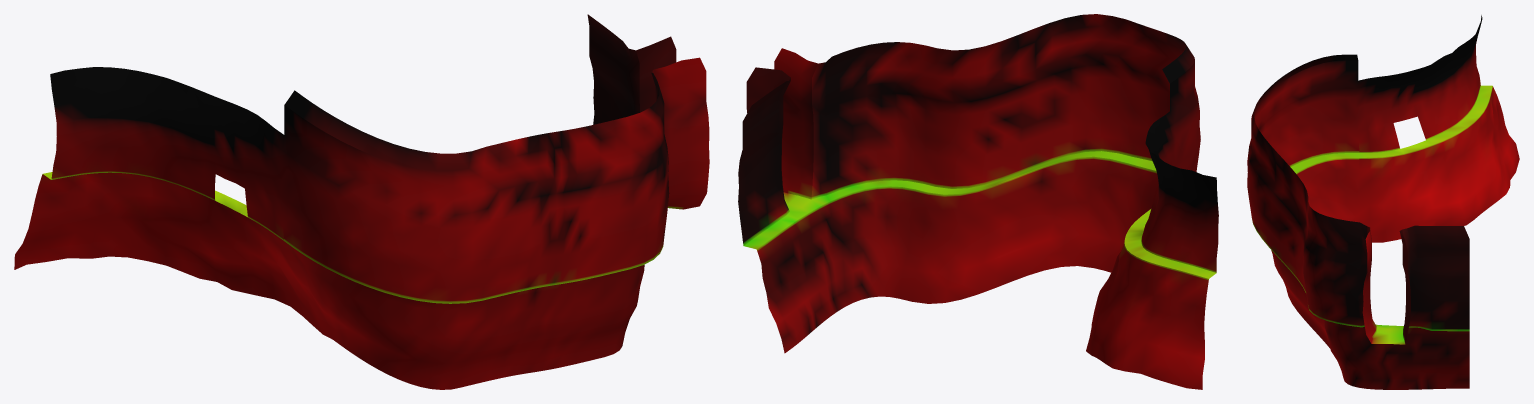
File: mountain_entrance_path.obj
3 views of the same model, side by side, from view 1: azimuth 30°, elevation 25°; view 2: azimuth 150°, elevation 25°; view 3: azimuth 270°, elevation 25° (orthographic). The views are drawn at different scales.
Parts seen in each view (by area): view 1: EntrancePath; view 2: EntrancePath; view 3: EntrancePath.
Part boxes in pixels (x1,y1,x2,y2): EntrancePath: [14, 14, 709, 389]; EntrancePath: [738, 14, 1218, 389]; EntrancePath: [1247, 15, 1519, 389].
Size of the model in its own units: 40.37 by 22.06 by 24.25.
